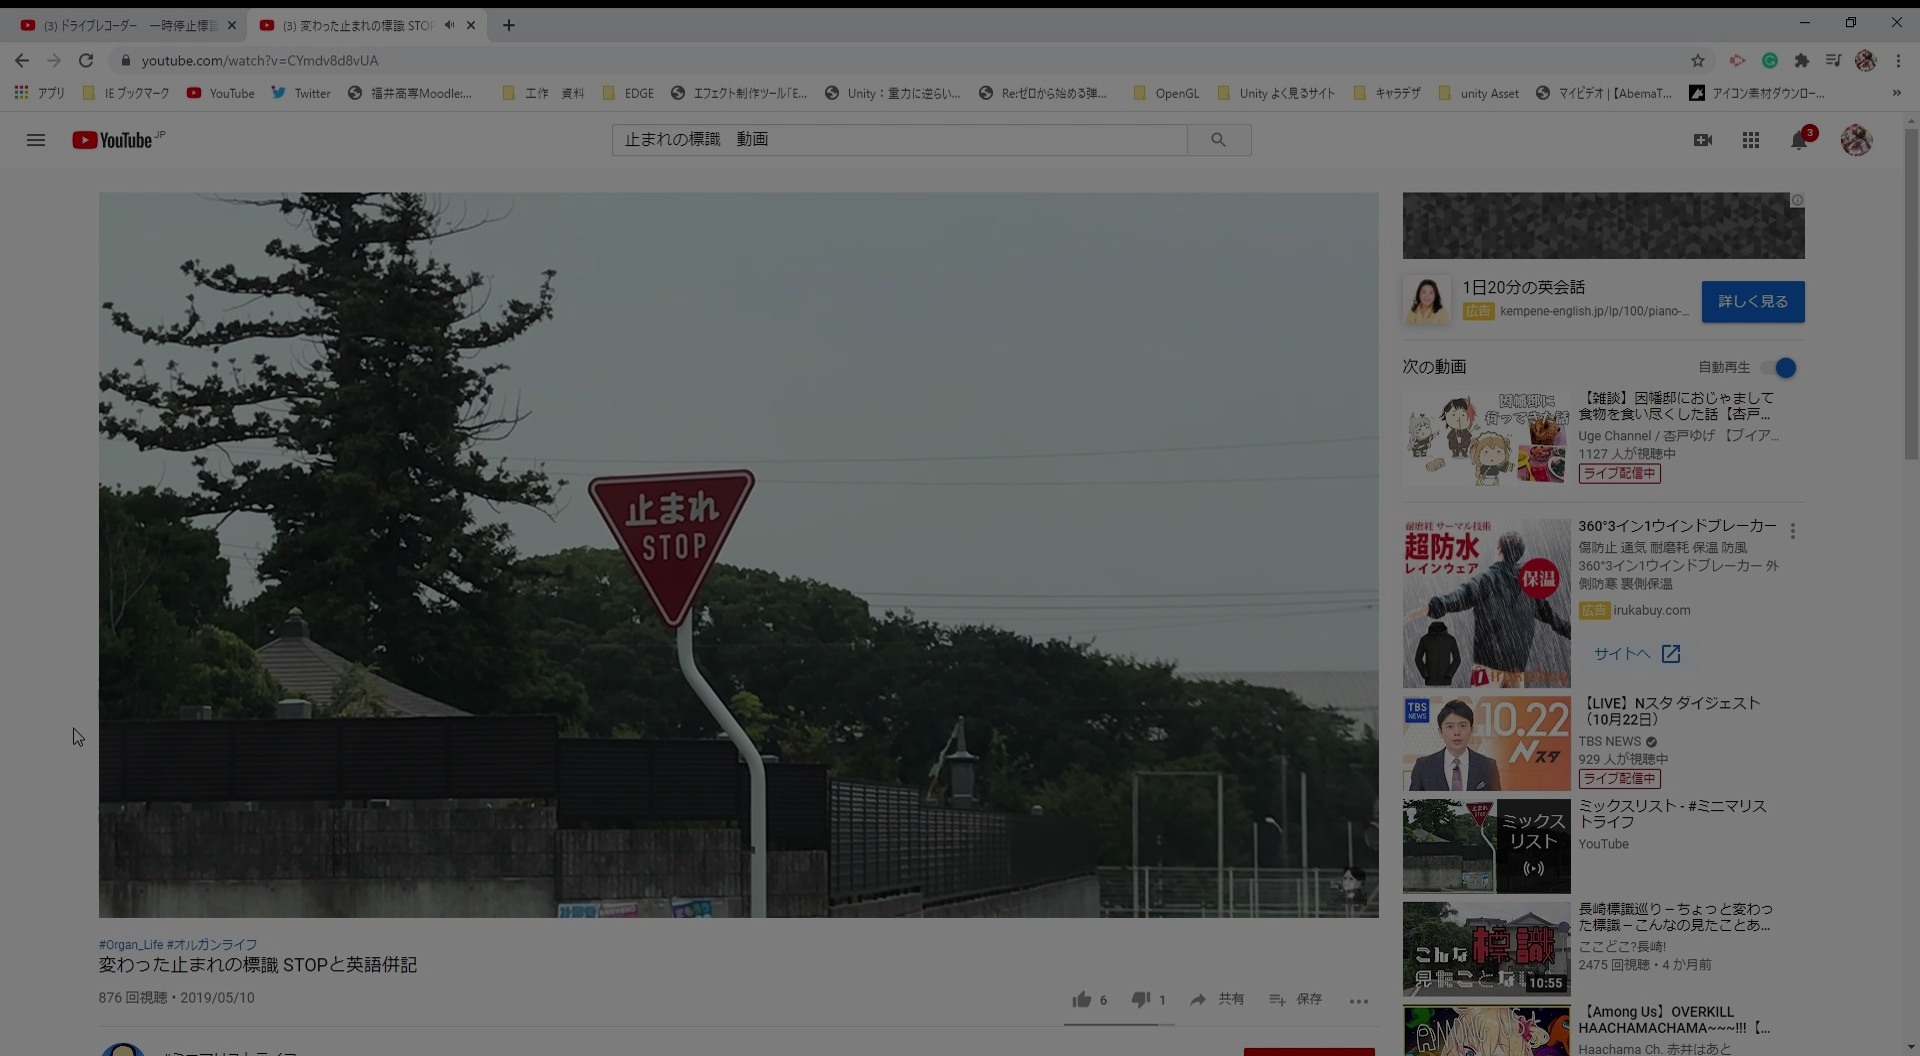Regulatory_sign_triangle: (582, 482, 776, 640)
